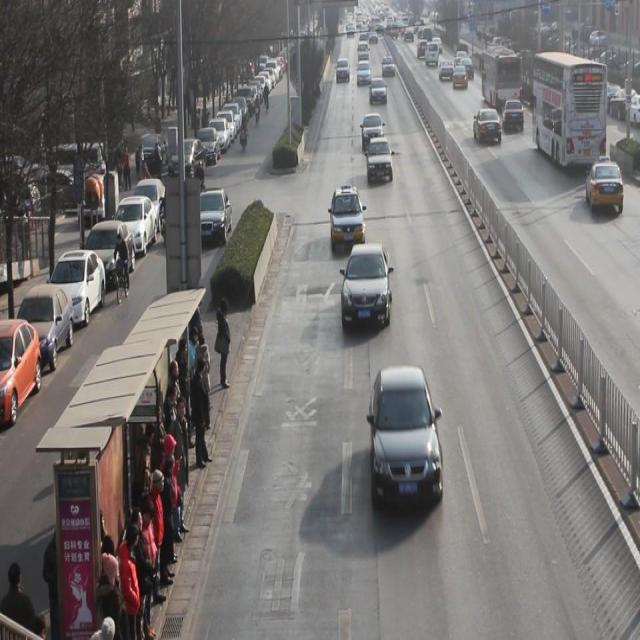car: (370, 367, 443, 509), (342, 242, 392, 326), (331, 187, 366, 252), (586, 161, 624, 214), (367, 136, 394, 184), (474, 107, 502, 144), (362, 113, 385, 152), (504, 97, 525, 133), (370, 76, 388, 105), (453, 65, 469, 88)
van: (533, 52, 609, 171), (479, 44, 522, 109)
